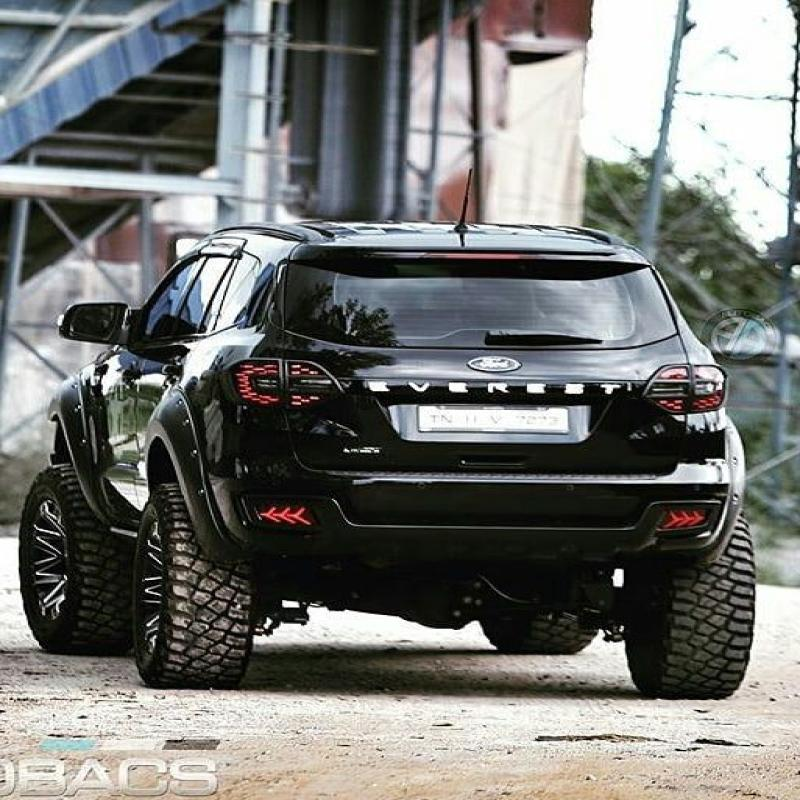car: (48, 211, 736, 746)
